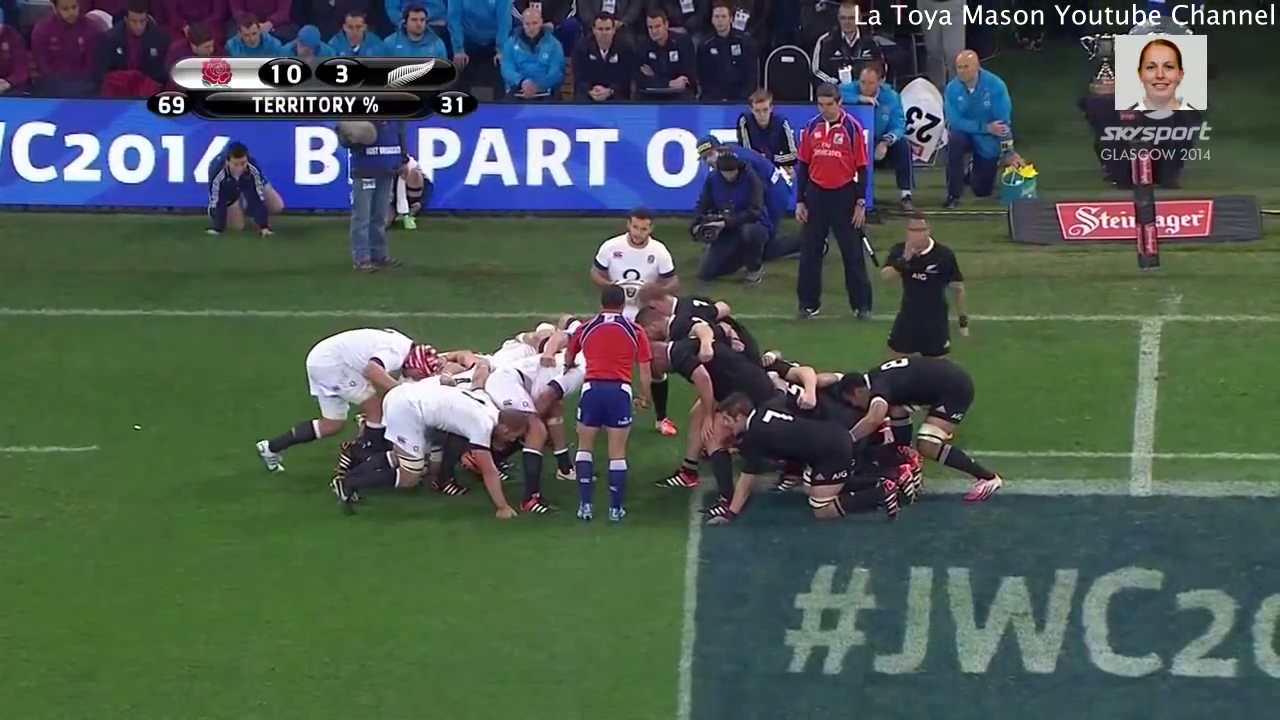ball: (602, 268, 663, 315)
player: (702, 394, 913, 519), (860, 208, 991, 393), (559, 287, 650, 528), (266, 317, 416, 457), (582, 189, 696, 319)
scrum: (270, 283, 1020, 528)
